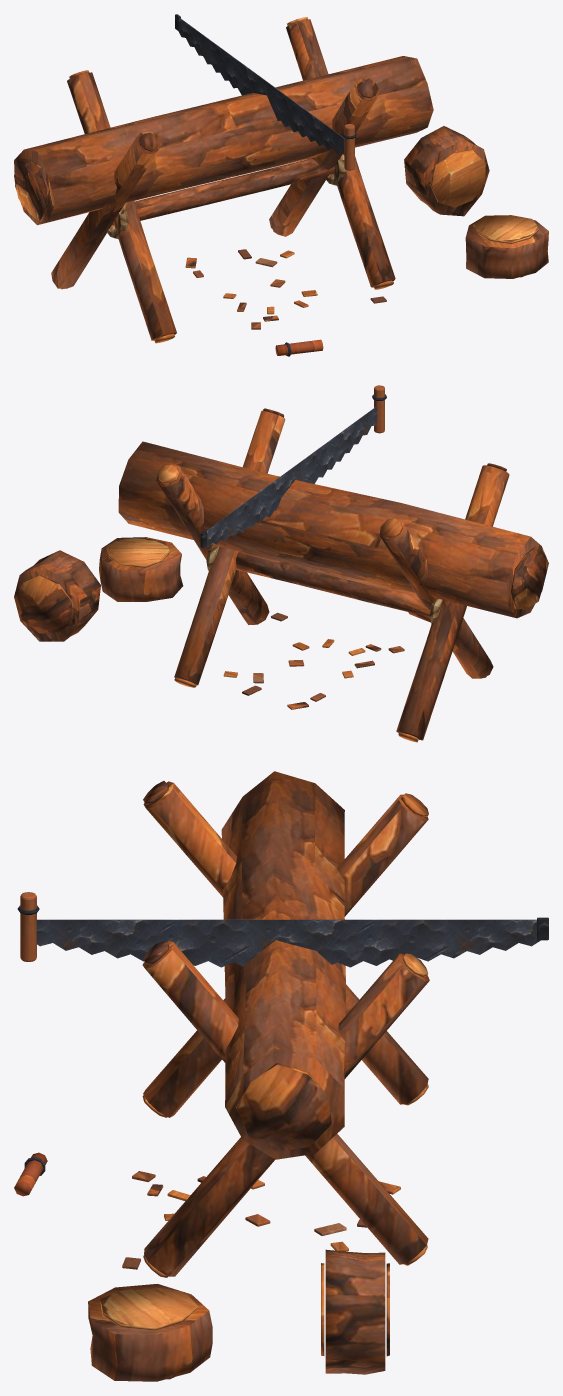
File: mp_saw_bench_cut.glb
The picture shows the model from 3 angles, top to bottom: view 1: azimuth 30°, elevation 25°; view 2: azimuth 150°, elevation 25°; view 3: azimuth 270°, elevation 25°; orthographic projection. The views are drawn at different scales.
Parts seen in each view (by area): view 1: model; view 2: model; view 3: model.
Boxes of the visible parts, x1=… form: model: x1=14, y1=14, x2=548, y2=356; model: x1=14, y1=385, x2=548, y2=742; model: x1=14, y1=771, x2=548, y2=1381.
Size of the model in its own units: 2.05 by 0.9041 by 1.34.
Materials: 17 (17 with a texture image).
